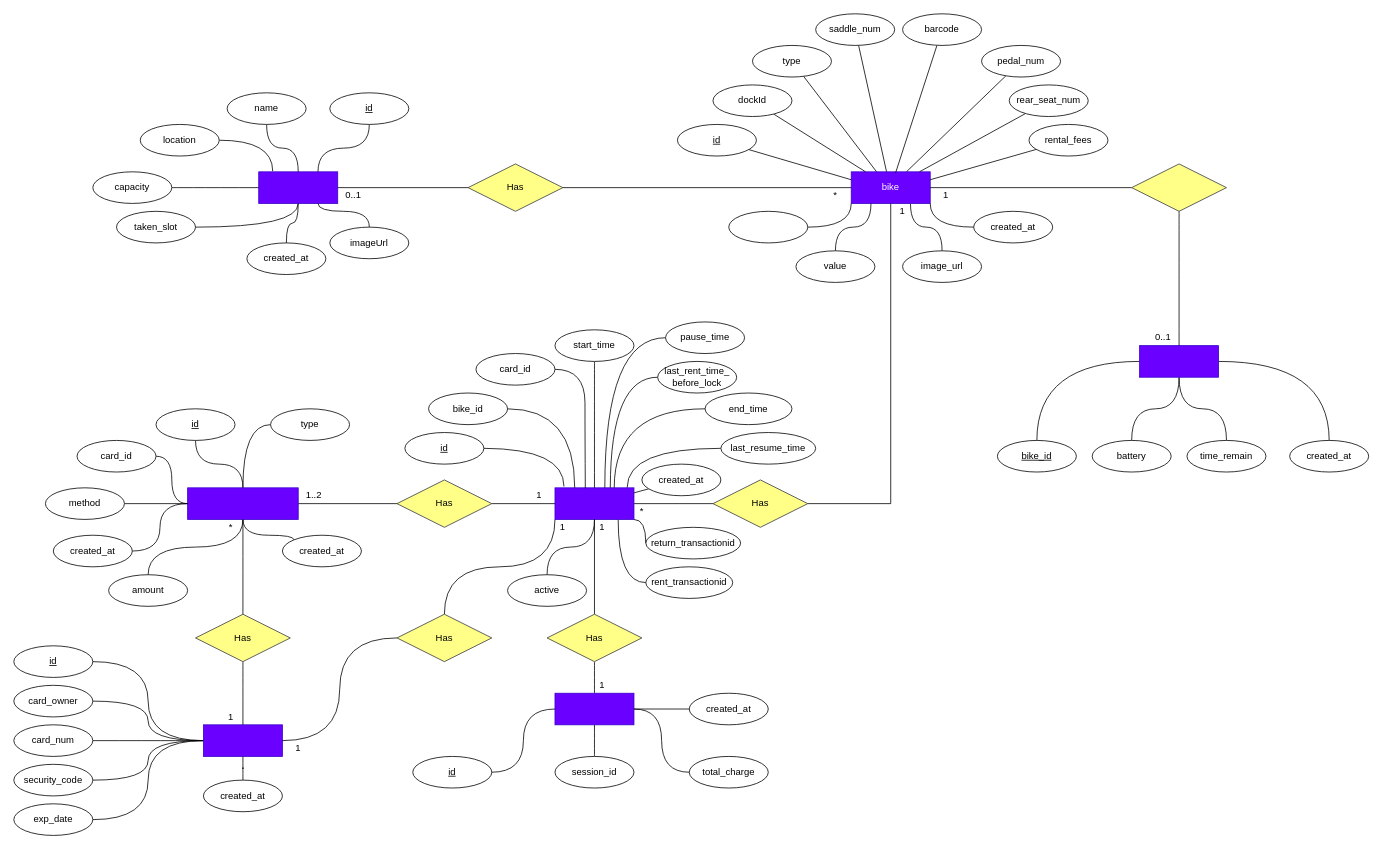
This 1383x849 diagram has some shape labels left out. Here are the shapes that lost their labels. From the top down, the box of each, then its label:
(258, 171, 338, 203): Dock
(1131, 163, 1226, 211): Is_A
(728, 211, 808, 243): desciption
(1139, 345, 1219, 377): e_bike
(187, 487, 298, 519): payment_transaction
(554, 487, 634, 519): session
(554, 692, 634, 725): invoice
(203, 724, 282, 756): card
